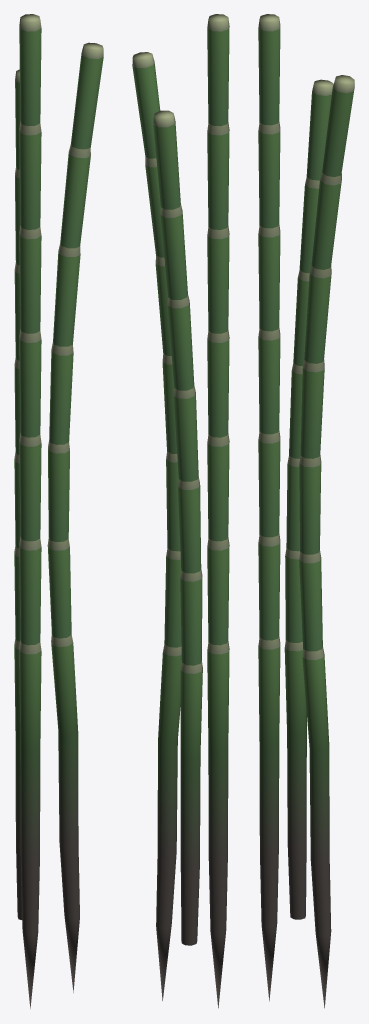
3 views of the same model, side by side, from view 1: azimuth 30°, elevation 25°; view 2: azimuth 150°, elevation 25°; view 3: azimuth 330°, elevation 25° (orthographic).
Visible parts, largest first — view 1: base.587; view 2: base.587; view 3: base.587.
Boxes of the visible parts, box(x1,y1,x2,y2) form: base.587: box(14, 14, 103, 1008); base.587: box(132, 14, 229, 1008); base.587: box(258, 14, 354, 1008).
Bounding box in the file's own units: 0.0467 × 0.5 × 0.0371.
